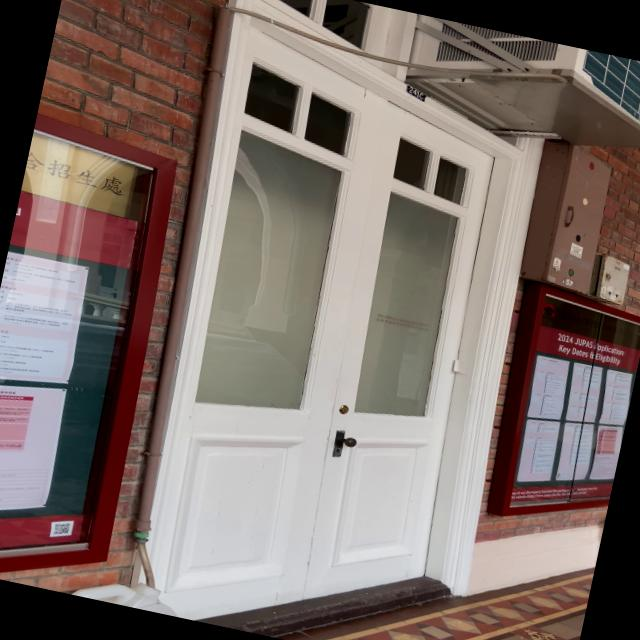room241c: (401, 83, 429, 102)
